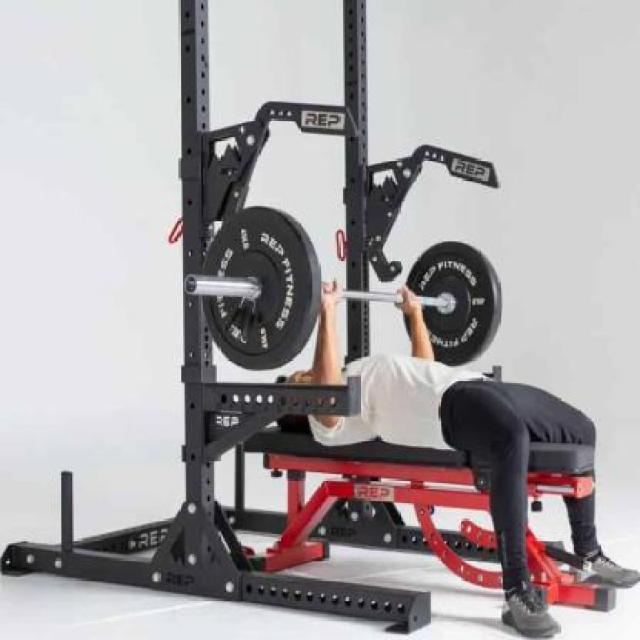barbell: (184, 205, 319, 373)
